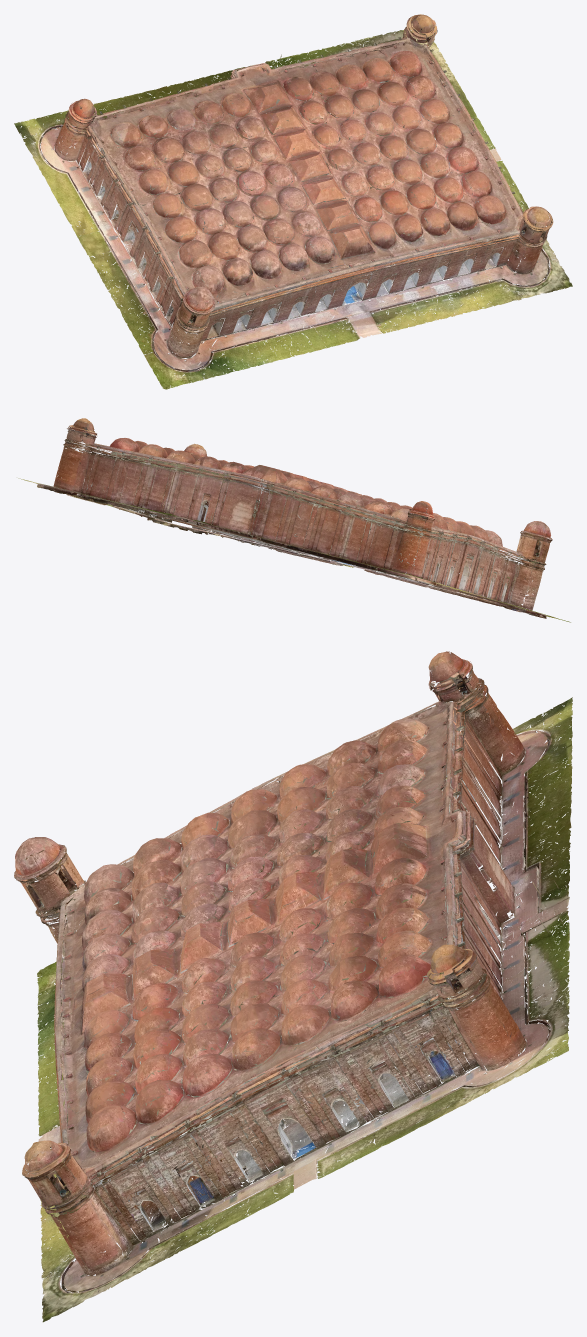
The model's file is mosque.glb.
The picture shows the model from 3 angles, top to bottom: view 1: azimuth 30°, elevation 25°; view 2: azimuth 150°, elevation 25°; view 3: azimuth 270°, elevation 25°; orthographic projection. The views are drawn at different scales.
Parts seen in each view (by area): view 1: GeometryNode_199_0, GeometryNode_77_0, GeometryNode_3_0, GeometryNode_29_0, GeometryNode_103_0, GeometryNode_166_0, GeometryNode_188_0, GeometryNode_18_0, GeometryNode_151_0, GeometryNode_129_0, GeometryNode_214_0, GeometryNode_92_0 (+10 smaller); view 2: GeometryNode_199_0, GeometryNode_214_0, GeometryNode_177_0, GeometryNode_114_0, GeometryNode_188_0, GeometryNode_166_0, GeometryNode_40_0, GeometryNode_129_0, GeometryNode_55_0, GeometryNode_151_0, GeometryNode_66_0, GeometryNode_77_0 (+6 smaller); view 3: GeometryNode_199_0, GeometryNode_77_0, GeometryNode_151_0, GeometryNode_3_0, GeometryNode_103_0, GeometryNode_29_0, GeometryNode_214_0, GeometryNode_188_0, GeometryNode_18_0, GeometryNode_166_0, GeometryNode_129_0, GeometryNode_177_0 (+9 smaller).
Boxes of the visible parts, <box> form: GeometryNode_199_0: <box>39,19,549,372</box>; GeometryNode_77_0: <box>65,24,542,354</box>; GeometryNode_3_0: <box>40,28,545,389</box>; GeometryNode_29_0: <box>14,30,547,366</box>; GeometryNode_103_0: <box>56,38,549,332</box>; GeometryNode_166_0: <box>76,14,557,376</box>; GeometryNode_188_0: <box>33,43,550,373</box>; GeometryNode_18_0: <box>15,36,525,386</box>; GeometryNode_151_0: <box>23,23,552,379</box>; GeometryNode_129_0: <box>65,16,552,328</box>; GeometryNode_214_0: <box>49,27,549,359</box>; GeometryNode_92_0: <box>54,36,547,354</box>; GeometryNode_199_0: <box>37,427,551,618</box>; GeometryNode_214_0: <box>37,431,551,617</box>; GeometryNode_177_0: <box>83,434,522,599</box>; GeometryNode_114_0: <box>63,429,552,607</box>; GeometryNode_188_0: <box>81,441,549,583</box>; GeometryNode_166_0: <box>36,418,549,596</box>; GeometryNode_40_0: <box>54,423,542,611</box>; GeometryNode_129_0: <box>64,425,544,601</box>; GeometryNode_55_0: <box>53,420,534,607</box>; GeometryNode_151_0: <box>71,427,542,596</box>; GeometryNode_66_0: <box>54,427,552,595</box>; GeometryNode_77_0: <box>64,427,551,616</box>; GeometryNode_199_0: <box>16,669,550,1293</box>; GeometryNode_77_0: <box>28,672,496,1245</box>; GeometryNode_151_0: <box>29,651,572,1227</box>; GeometryNode_3_0: <box>25,678,569,1247</box>; GeometryNode_103_0: <box>26,693,525,1255</box>; GeometryNode_29_0: <box>43,659,572,1291</box>; GeometryNode_214_0: <box>15,718,550,1222</box>; GeometryNode_188_0: <box>15,672,571,1280</box>; GeometryNode_18_0: <box>37,681,572,1230</box>; GeometryNode_166_0: <box>28,676,571,1299</box>; GeometryNode_129_0: <box>14,659,527,1234</box>; GeometryNode_177_0: <box>25,677,571,1322</box>.
Bounding box in the file's own units: 59.22 × 27.19 × 39.32.
6 materials, 6 textured.
